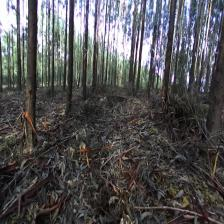trunk: (203, 41, 223, 143), (23, 10, 37, 152), (162, 14, 175, 99), (145, 13, 158, 98), (64, 9, 74, 112), (135, 17, 145, 91), (82, 21, 88, 99), (50, 10, 54, 93), (17, 22, 21, 88)
